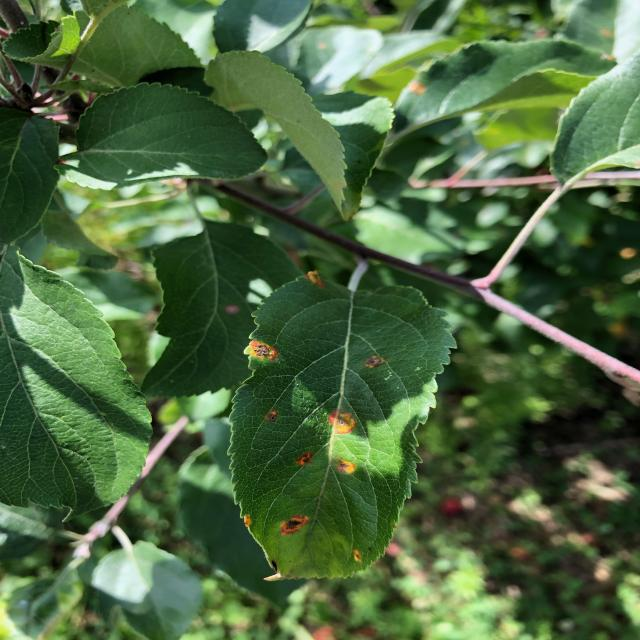rust: (226, 268, 459, 582)
